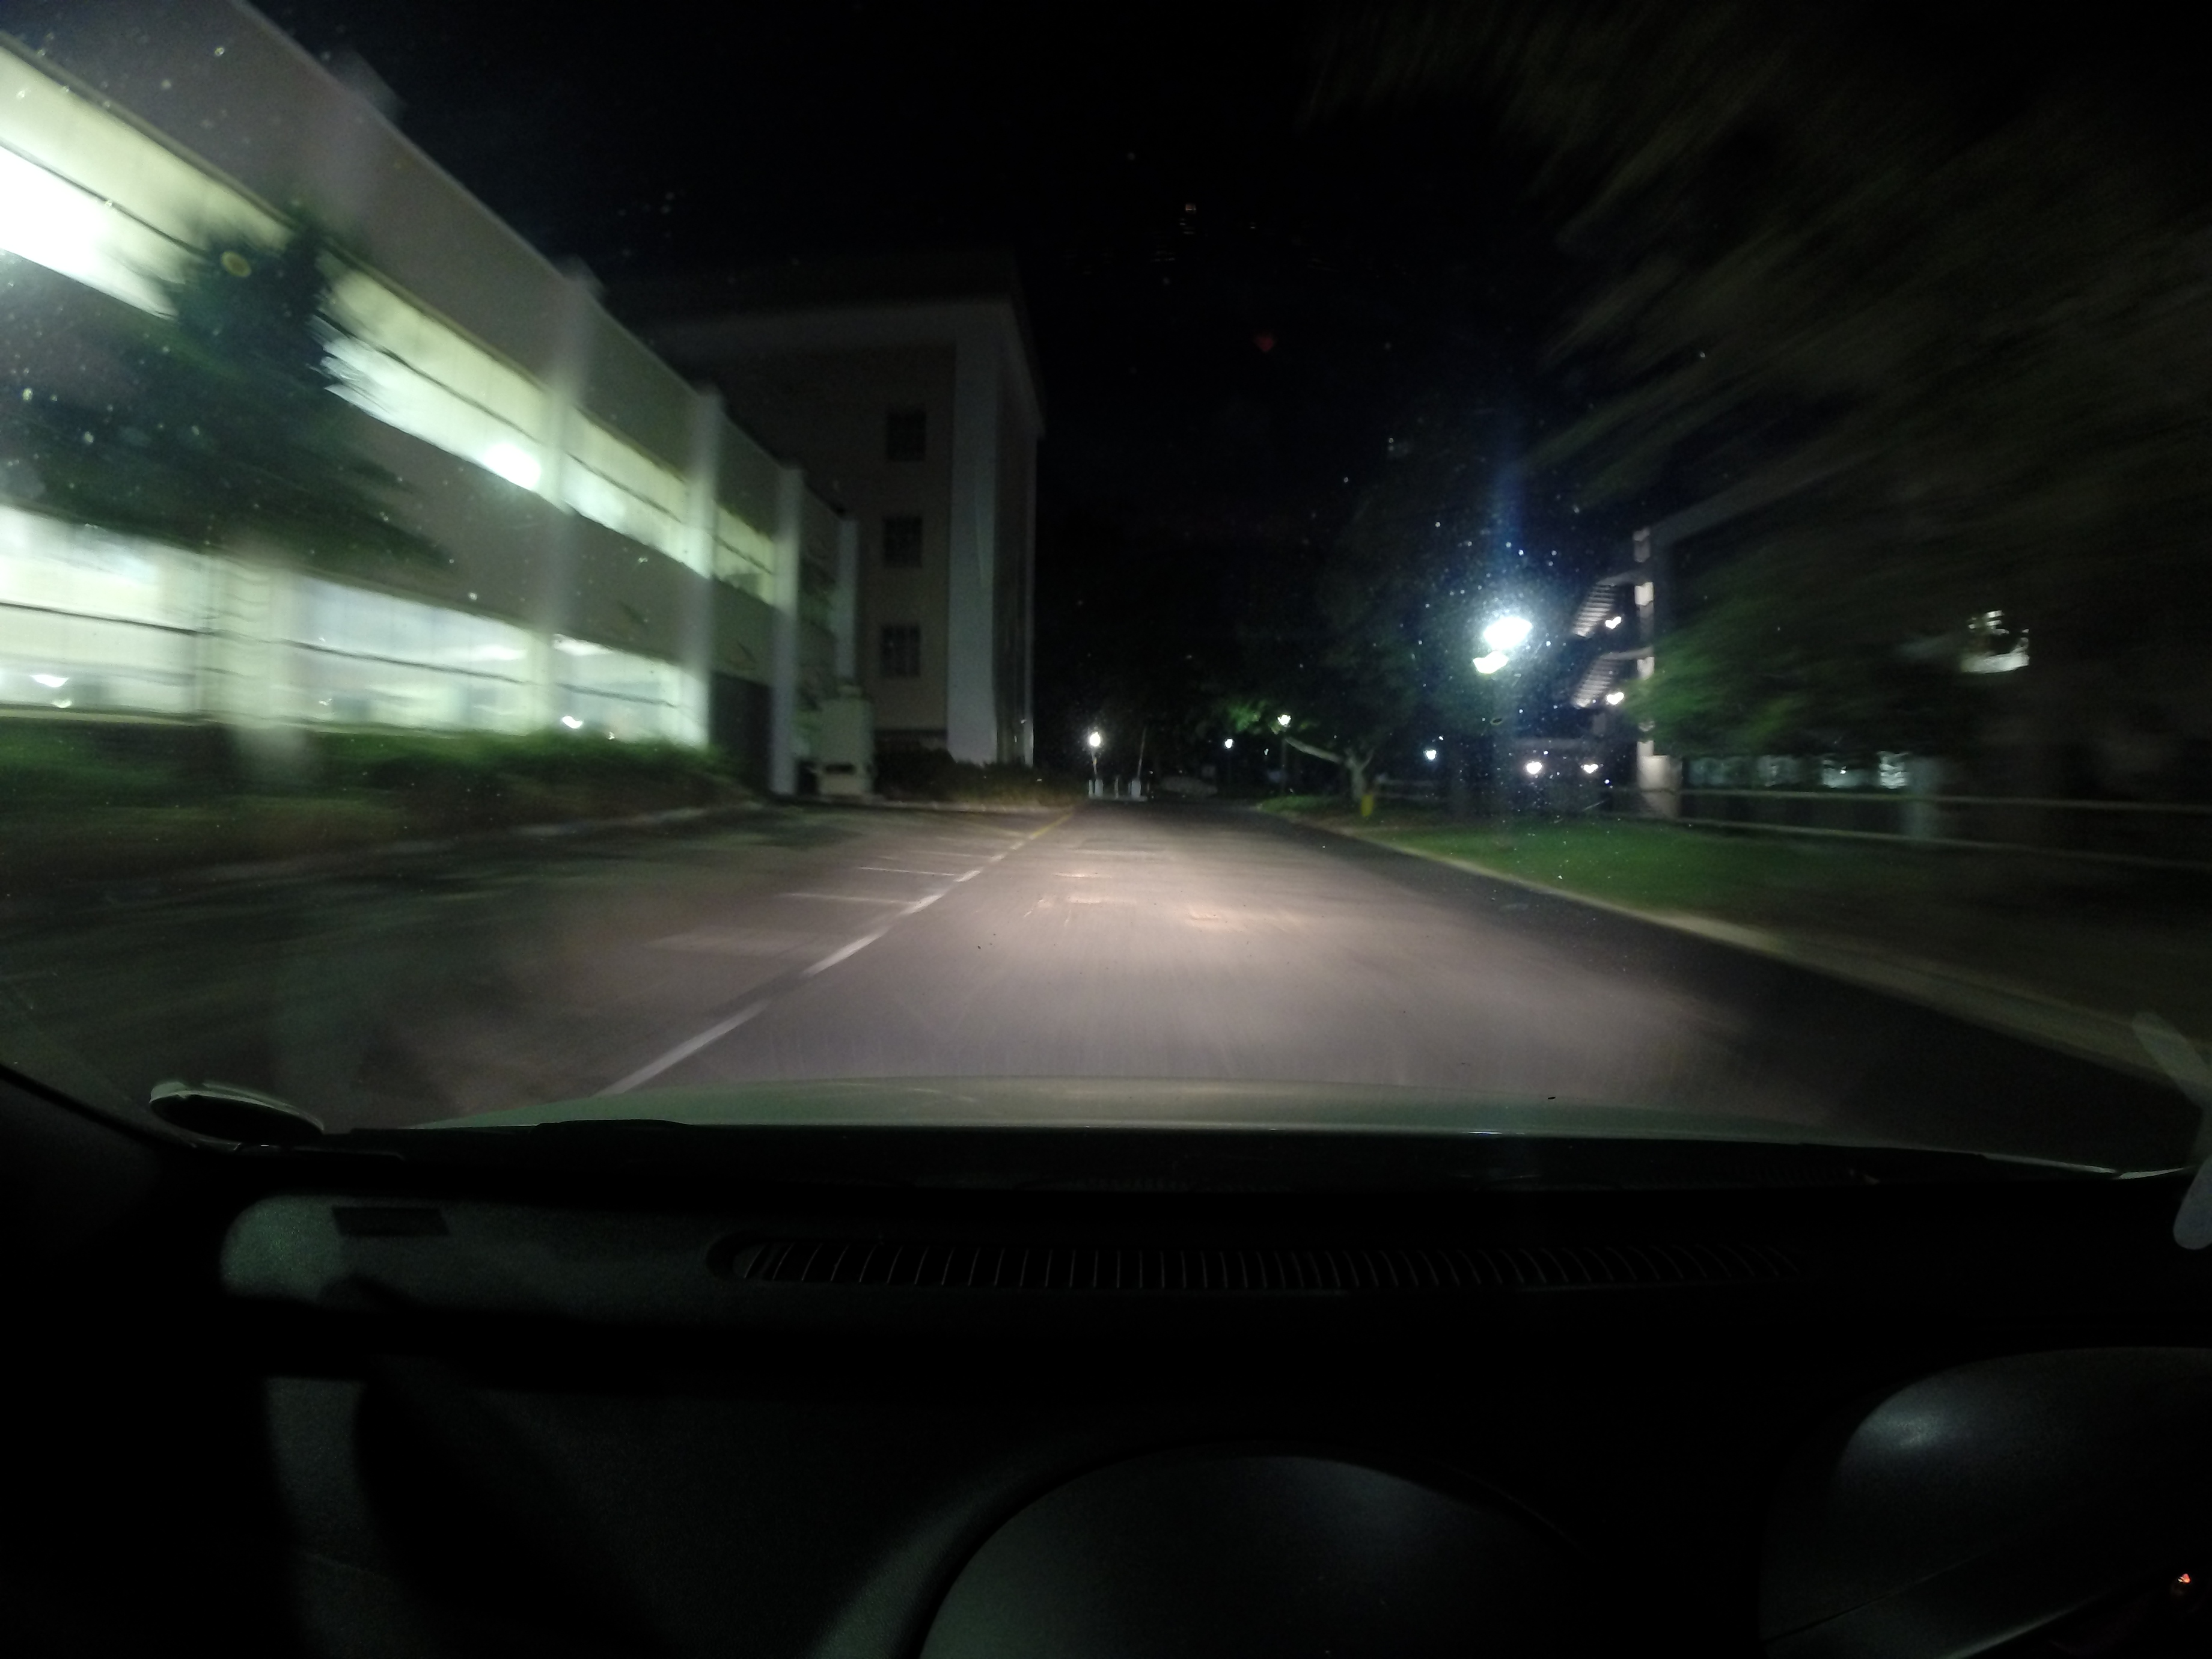pothole: (1179, 908, 1263, 936), (1049, 889, 1137, 910), (1055, 868, 1118, 884)
